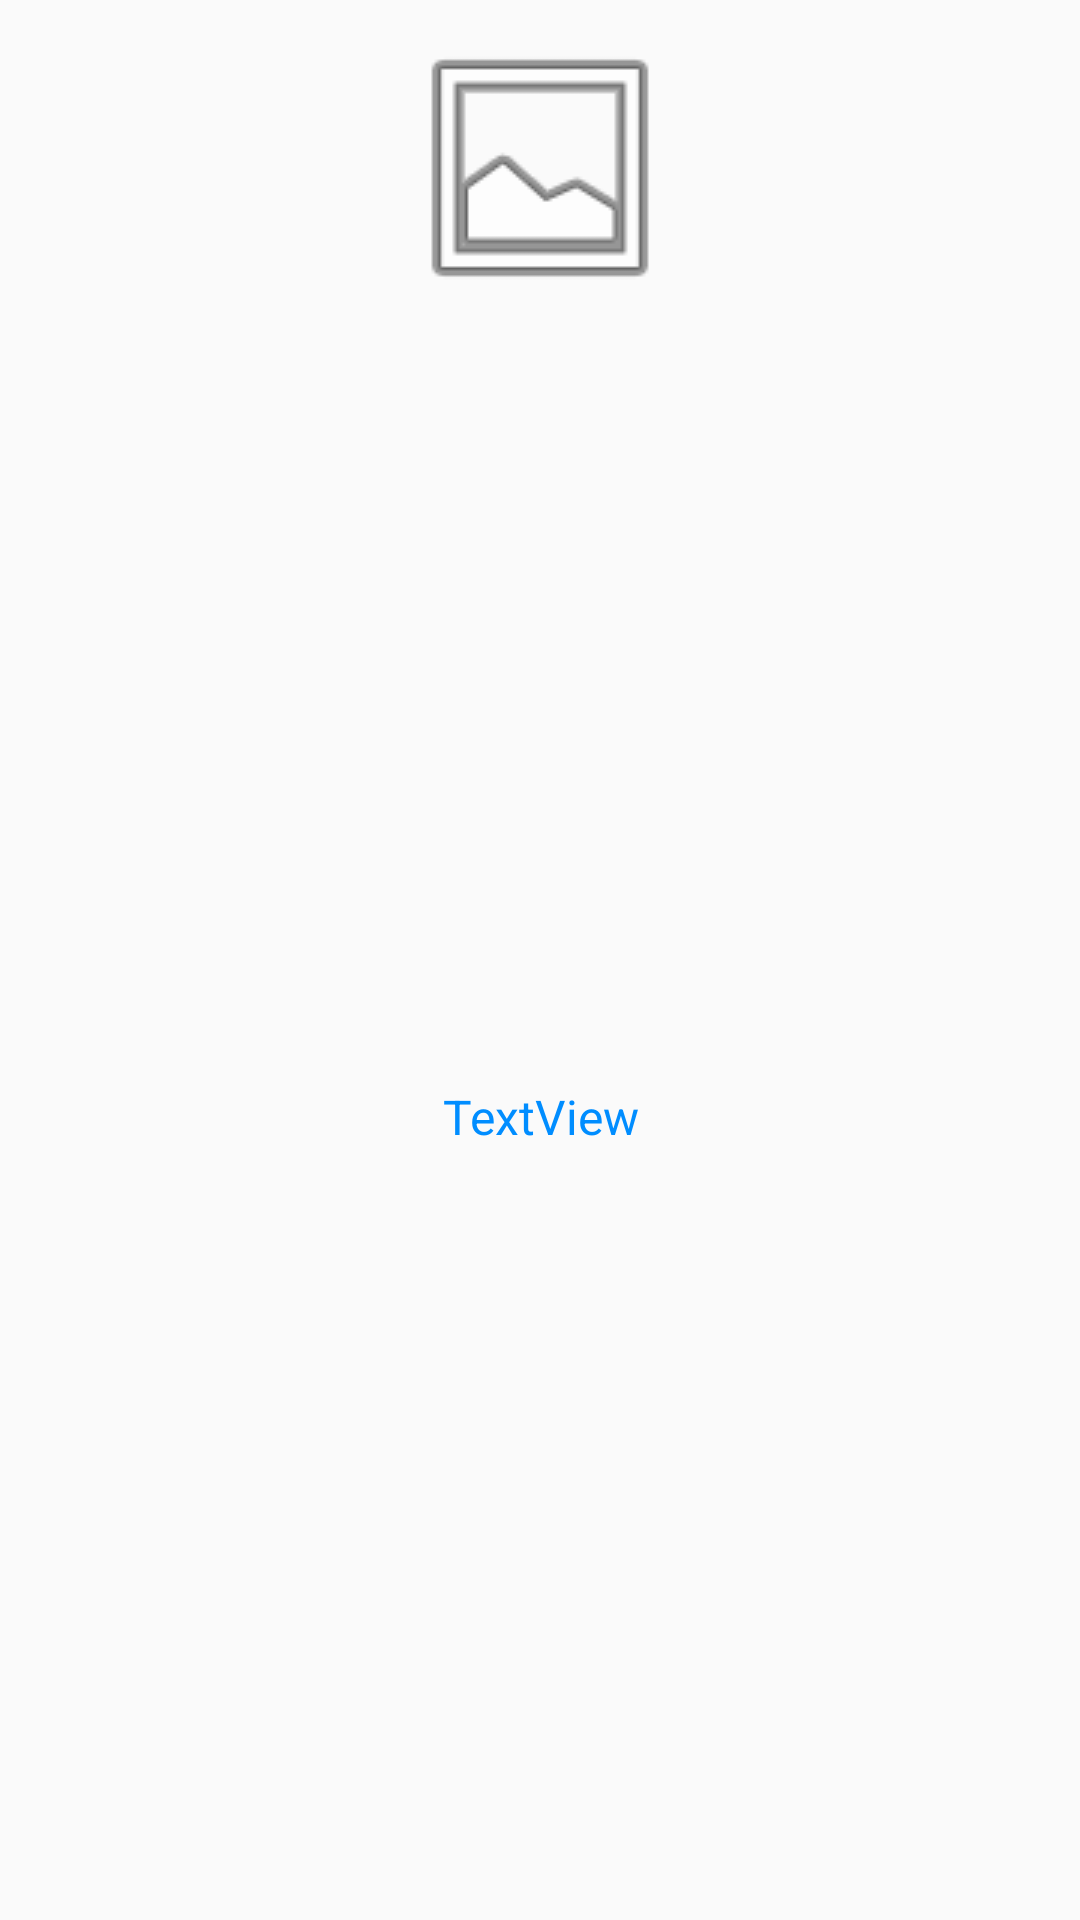

Point at icon controls on the screen. Image size 1080w x 1920h, points as (x,y).
gallery: (540,168)
